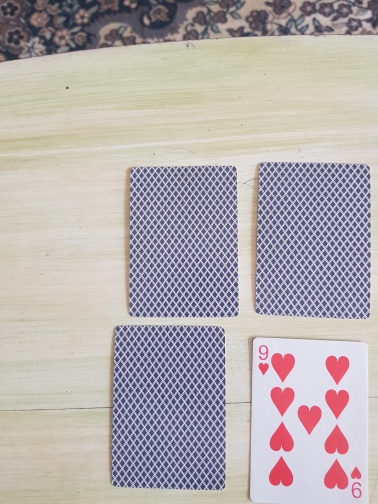nine: (248, 335, 370, 504)
